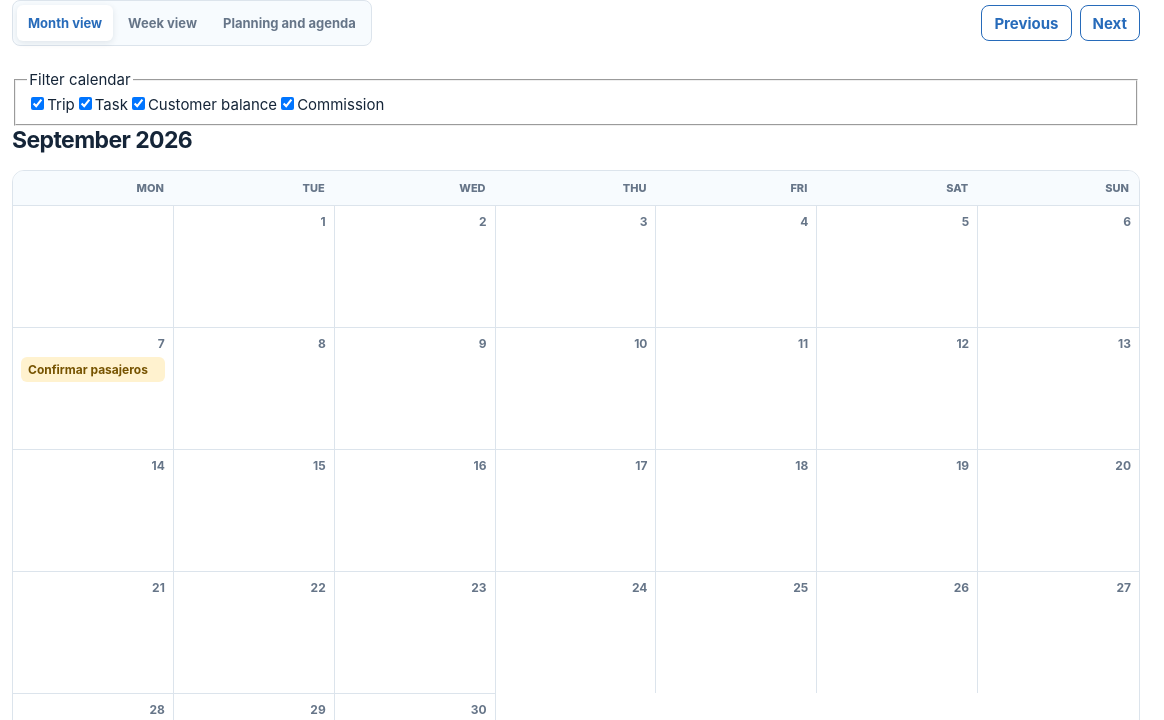
Test: CalendarPage › translates Calendar controls and dates to English without translating an entered task title
Expected: the heading "September 2026" is shown, [12,126,192,154]
Expected: the button "Month view" is shown, [17,5,113,41]
Click the button "Week view" at (163, 23), box [117,5,208,41]
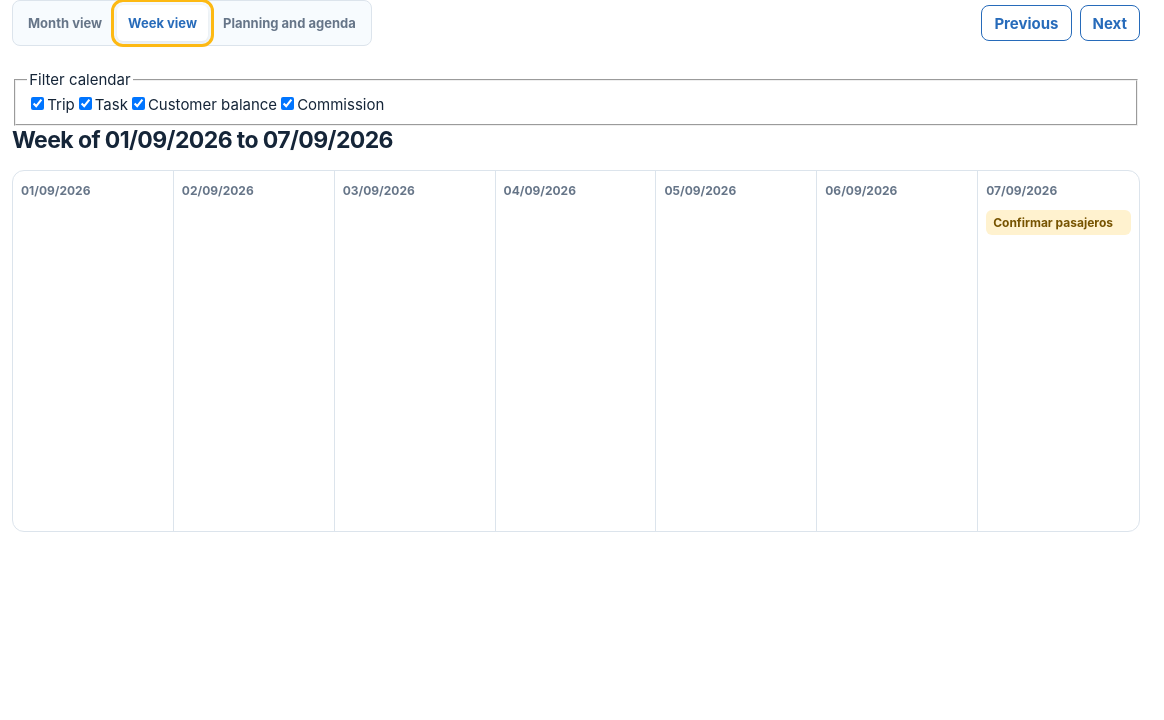
Expected: the button "Confirmar pasajeros" is shown, [986,210,1131,235]
Now the heading "Week of 01/09/2026 to 07/09/2026" is shown, box [12,126,393,154]
